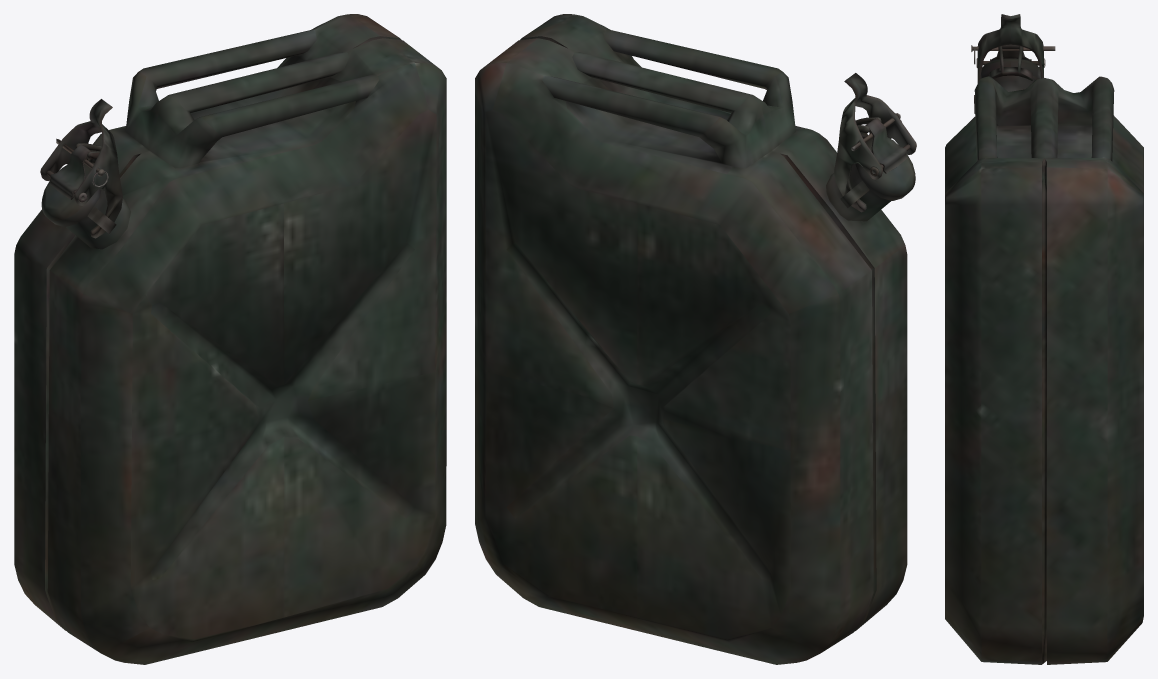
File: metal_jerrycan_green.gltf
3 renders of one model, left to right at view 1: azimuth 30°, elevation 25°; view 2: azimuth 150°, elevation 25°; view 3: azimuth 270°, elevation 25°, orthographic. The views are drawn at different scales.
Parts seen in each view (by area): view 1: metal_jerrycan_green_body, metal_jerrycan_green_latch, metal_jerrycan_green_cap; view 2: metal_jerrycan_green_body, metal_jerrycan_green_latch, metal_jerrycan_green_cap; view 3: metal_jerrycan_green_body, metal_jerrycan_green_latch, metal_jerrycan_green_cap, metal_jerrycan_green_fastener.
Boxes of the visible parts, left/top/right/bottom form: metal_jerrycan_green_body: left=14, top=14, right=446, bottom=664; metal_jerrycan_green_latch: left=40, top=99, right=122, bottom=238; metal_jerrycan_green_cap: left=41, top=144, right=101, bottom=227; metal_jerrycan_green_body: left=475, top=14, right=907, bottom=664; metal_jerrycan_green_latch: left=834, top=73, right=916, bottom=212; metal_jerrycan_green_cap: left=855, top=118, right=915, bottom=200; metal_jerrycan_green_body: left=945, top=75, right=1143, bottom=664; metal_jerrycan_green_latch: left=976, top=14, right=1045, bottom=83; metal_jerrycan_green_cap: left=980, top=44, right=1040, bottom=79; metal_jerrycan_green_fastener: left=989, top=46, right=1032, bottom=80.
Bounding box in the file's own units: 0.3604 × 0.4998 × 0.1709.
1 material, 1 textured.
